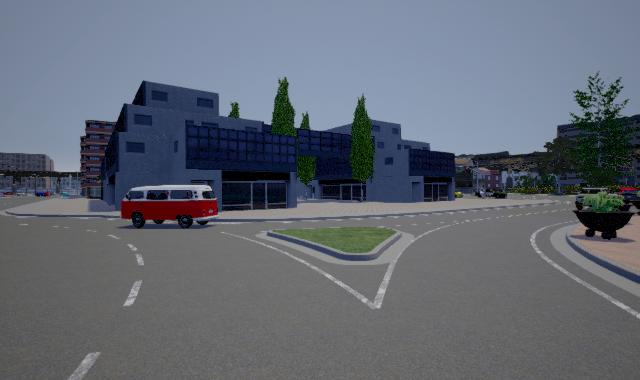vehicle: (120, 185, 219, 228)
